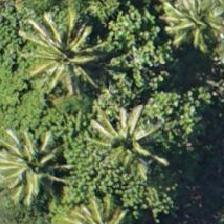coconut_tree: (18, 16, 108, 106), (79, 104, 169, 194), (0, 121, 71, 211), (153, 0, 223, 64)
